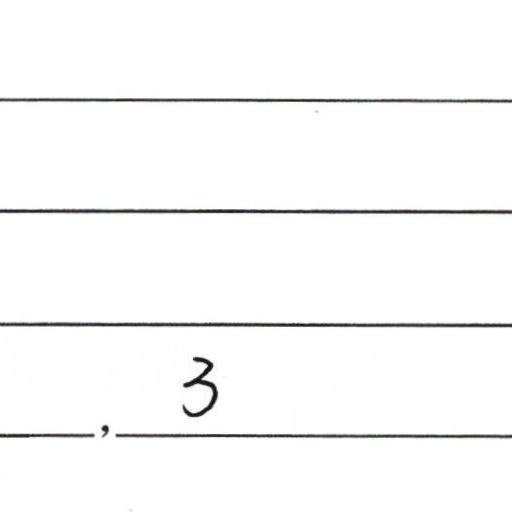ans: (177, 350, 222, 420)
